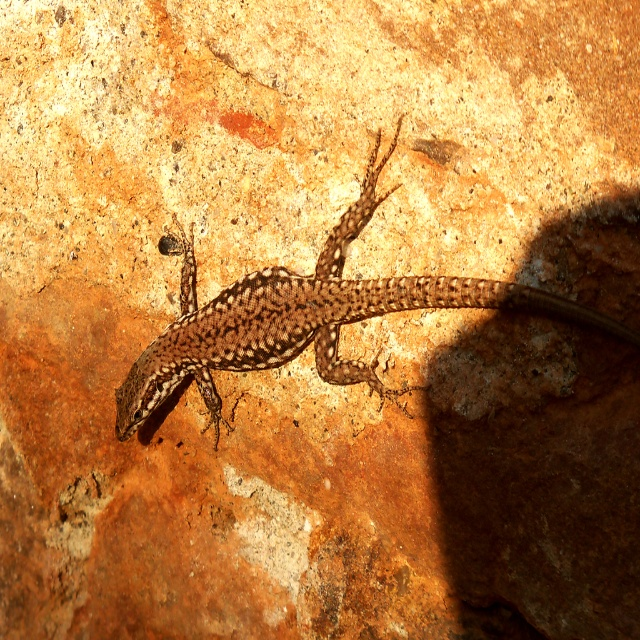Lizard: (120, 117, 634, 442)
